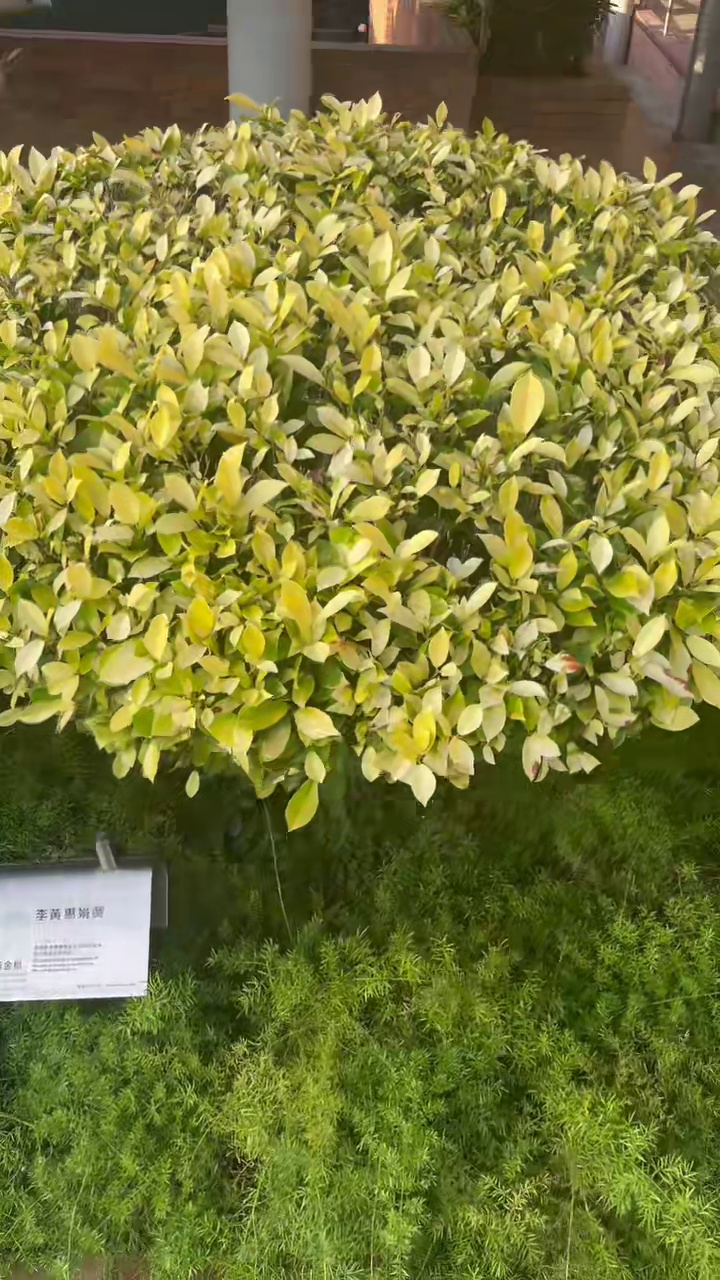Golden-leaves Fig: (0, 94, 719, 829)
